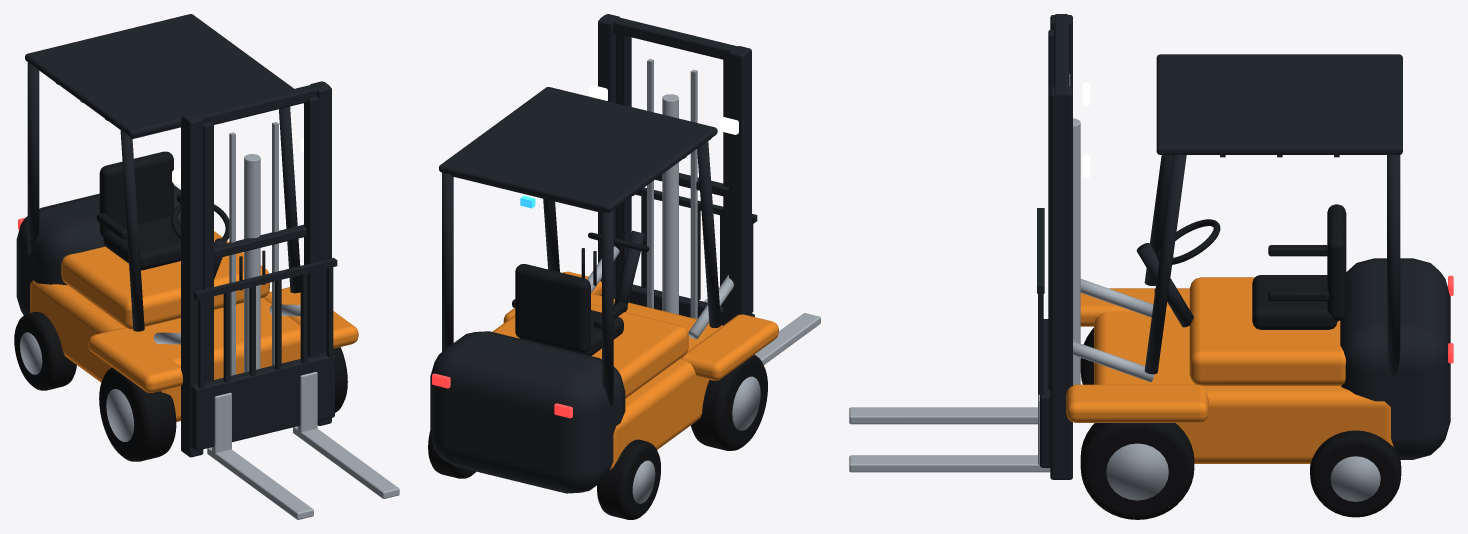
The model's file is forklift.glb.
3 views of the same model, side by side, from view 1: azimuth 30°, elevation 25°; view 2: azimuth 150°, elevation 25°; view 3: azimuth 270°, elevation 25° (orthographic). The views are drawn at different scales.
Visible parts, largest first — view 1: Guard, Chassis, Carriage, BatteryHood, Mast_-0.45, Counterweight, Wheel_F_-0.6, SeatBack, MastInner_0.45, Fender_-0.6, Mast_0.45, LiftCyl (+26 smaller); view 2: Counterweight, Guard, Chassis, Mast_-0.45, SeatBack, BatteryHood, Wheel_F_-0.6, Fender_-0.6, Wheel_R_-0.58, LiftCyl, Post_-0.55_-0.2, Mast_Top (+19 smaller); view 3: Guard, Chassis, Counterweight, BatteryHood, Mast_0.45, Wheel_F_0.6, Fender_0.6, Wheel_R_0.58, Seat, Fork_0.3, Fork_-0.3, Post_0.55_-0.2 (+17 smaller).
Boxes of the visible parts, box(x1,y1,x2,y2) form: Guard: box(25, 14, 293, 137); Chassis: box(30, 280, 300, 421); Carriage: box(191, 353, 334, 450); BatteryHood: box(61, 231, 269, 329); Mast_-0.45: box(181, 112, 203, 457); Counterweight: box(16, 185, 180, 315); Wheel_F_-0.6: box(99, 367, 176, 461); SeatBack: box(99, 151, 173, 236); MastInner_0.45: box(304, 96, 319, 357); Fender_-0.6: box(88, 327, 182, 392); Mast_0.45: box(310, 81, 331, 425); LiftCyl: box(244, 154, 260, 372); Counterweight: box(430, 331, 625, 493); Guard: box(439, 87, 717, 212); Chassis: box(591, 293, 722, 469); Mast_-0.45: box(729, 46, 751, 320); SeatBack: box(515, 264, 590, 353); BatteryHood: box(492, 303, 688, 398); Wheel_F_-0.6: box(691, 355, 767, 450); Fender_-0.6: box(680, 314, 778, 380); Wheel_R_-0.58: box(597, 439, 660, 519); LiftCyl: box(662, 94, 678, 314); Post_-0.55_-0.2: box(697, 141, 720, 328); Mast_Top: box(600, 14, 749, 60); Guard: box(1156, 54, 1402, 154); Chassis: box(1094, 311, 1393, 463); Counterweight: box(1340, 258, 1450, 459); BatteryHood: box(1189, 277, 1345, 385); Mast_0.45: box(1050, 87, 1072, 479); Wheel_F_0.6: box(1080, 423, 1194, 519); Fender_0.6: box(1066, 384, 1208, 422); Wheel_R_0.58: box(1310, 430, 1401, 517); Seat: box(1252, 275, 1337, 329); Fork_0.3: box(849, 455, 1050, 472); Fork_-0.3: box(849, 407, 1037, 424); Post_0.55_-0.2: box(1144, 154, 1186, 374).
Size of the model in its own units: 1.5 by 2.4 by 3.19.
